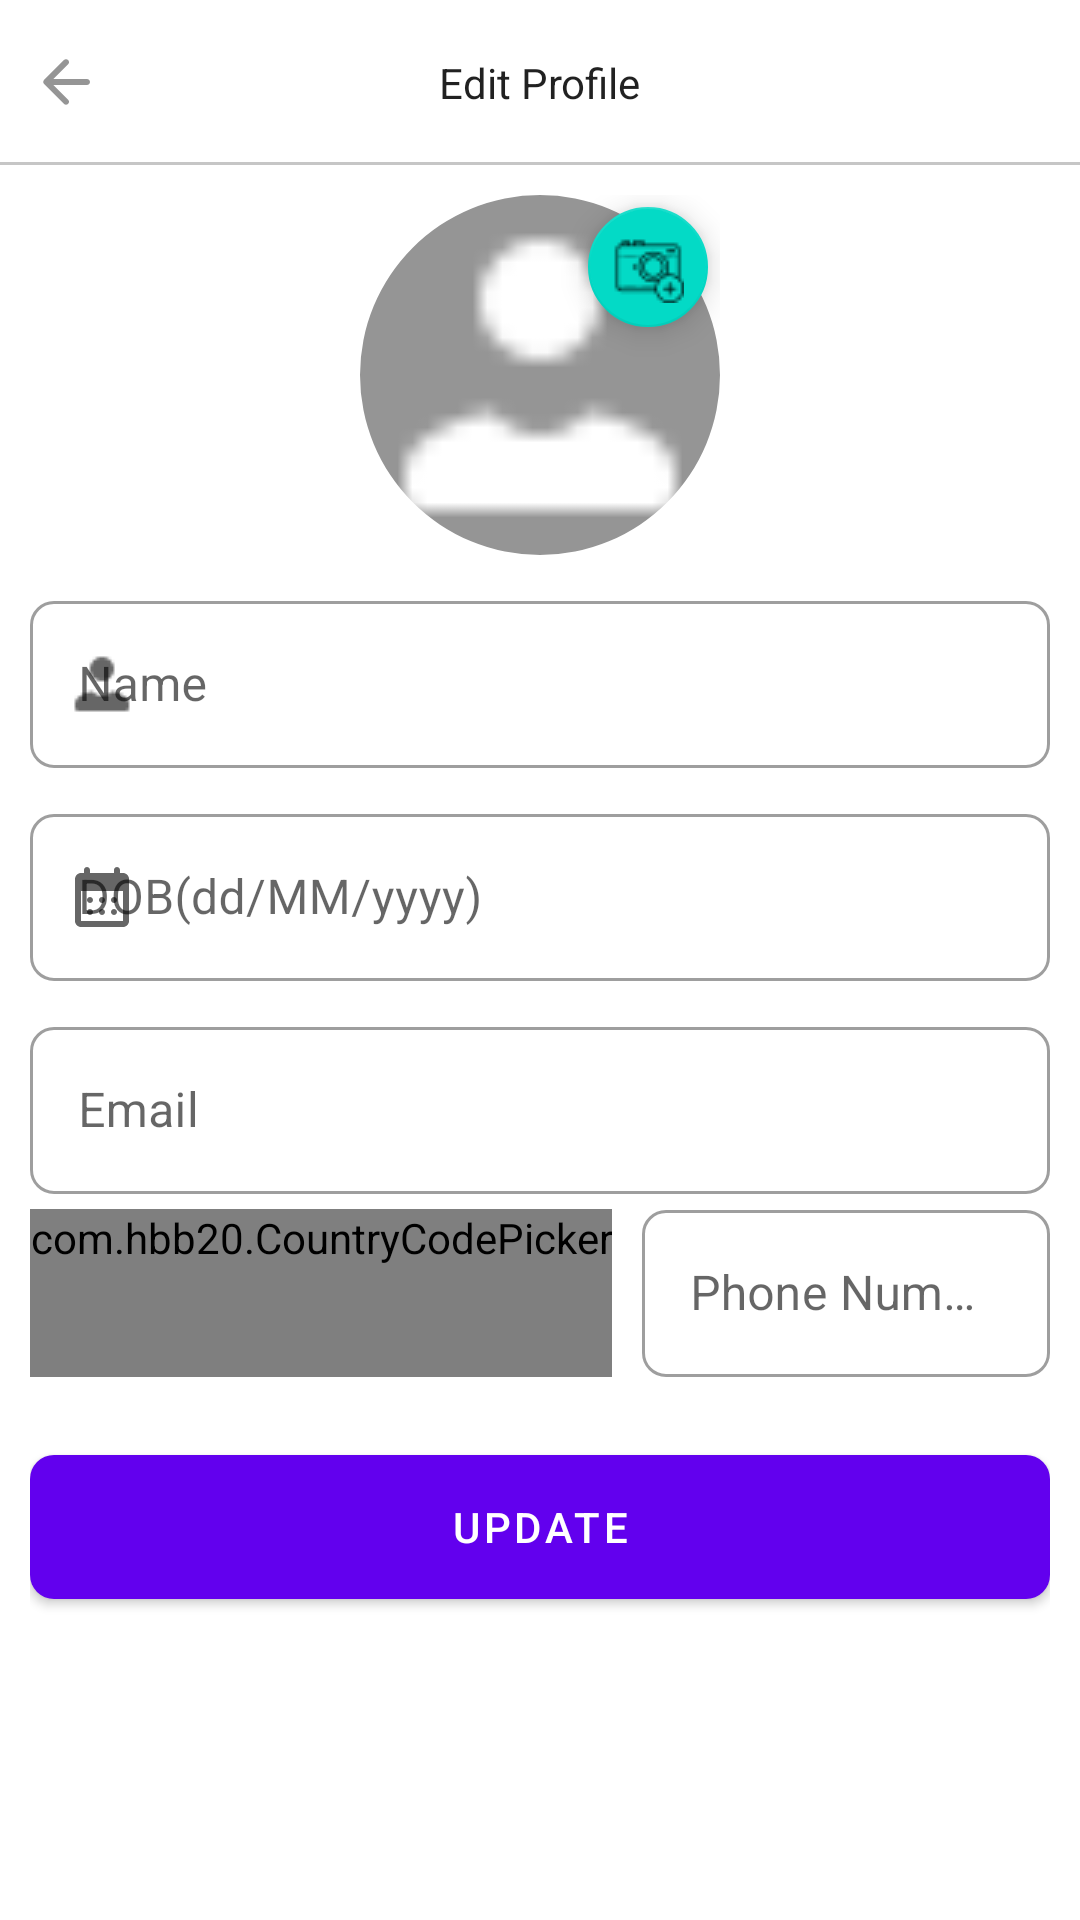

Point at icon controls on the screen. Image size 1080w x 1920h, points as [x,y].
back: [66,82]
